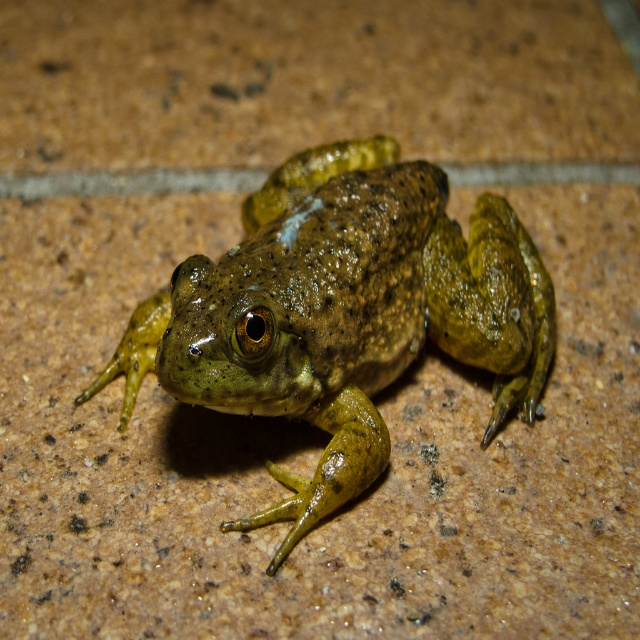Frog: (75, 135, 557, 576)
